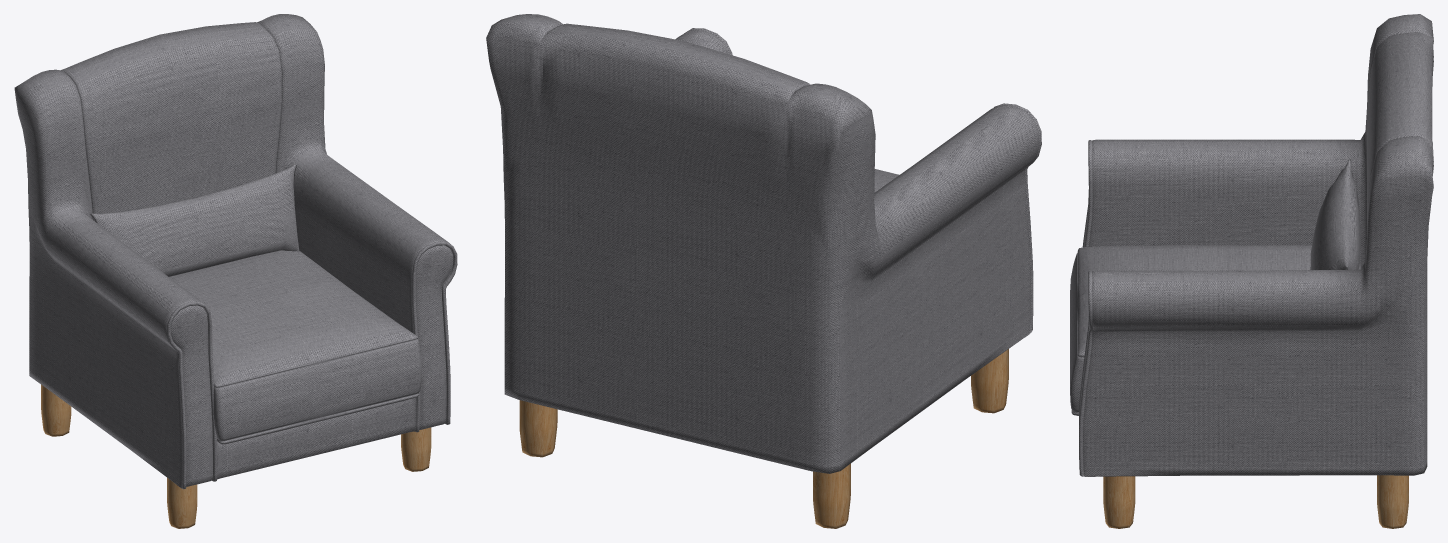
The model's file is design11.obj.
3 views of the same model, side by side, from view 1: azimuth 30°, elevation 25°; view 2: azimuth 150°, elevation 25°; view 3: azimuth 270°, elevation 25° (orthographic). The views are drawn at different scales.
Visible parts, largest first — view 1: Design012, Box046, Plane030, Box047, Box048; view 2: Design012, Box048, Box047; view 3: Design012, Box046, Plane030, Box048, Box047.
Part boxes in pixels (x1,y1,x2,y2): Design012: [14, 14, 457, 489]; Box046: [169, 250, 422, 444]; Plane030: [90, 164, 299, 276]; Box047: [167, 427, 431, 528]; Box048: [41, 384, 71, 436]; Design012: [486, 14, 1041, 473]; Box048: [519, 400, 850, 528]; Box047: [971, 349, 1008, 413]; Design012: [1079, 14, 1433, 476]; Box046: [1070, 245, 1361, 415]; Plane030: [1310, 159, 1360, 269]; Box048: [1377, 475, 1408, 528]; Box047: [1103, 476, 1135, 528].
Bounding box in the file's own units: 929 × 1098 × 928.
2 materials, 2 textured.
